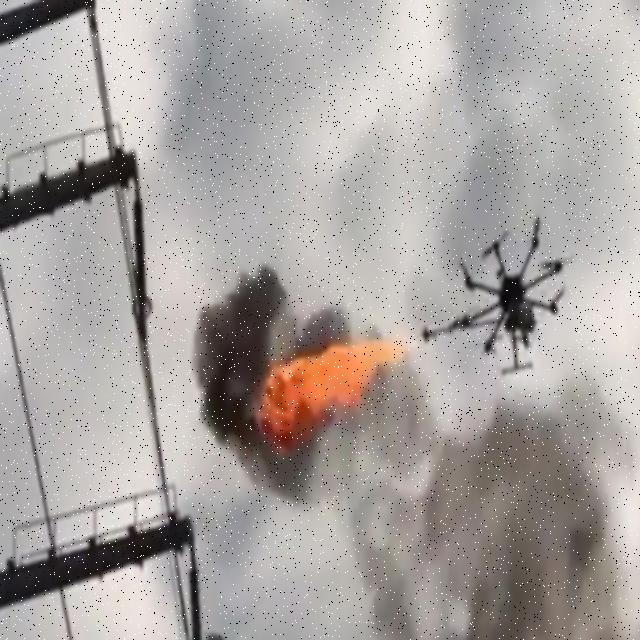UAV: (456, 212, 572, 380)
